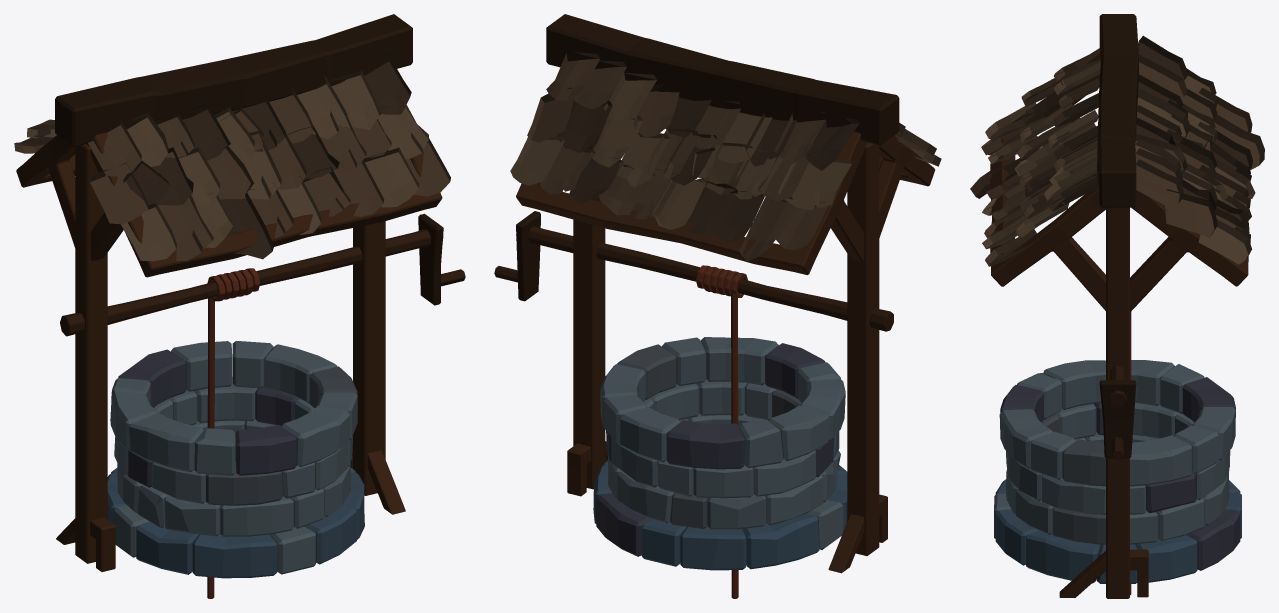
Rendered from well.obj.
The picture shows the model from 3 angles, left to right: view 1: azimuth 30°, elevation 25°; view 2: azimuth 150°, elevation 25°; view 3: azimuth 270°, elevation 25°; orthographic projection. The views are drawn at different scales.
Visible parts, largest first — view 1: Cube.004, Plane.024, Cube.003, Cube, Cube.002, Cube.001, Cylinder; view 2: Cube.004, Plane.024, Cube.003, Cube, Cube.002, Cube.001, Cylinder; view 3: Plane.024, Cube.004, Cube.003, Cube, Cube.002, Cube.001.
Boxes of the visible parts, x1,y1,x2,y2 form: Cube.004: (16,14,465,571); Plane.024: (14,54,450,261); Cube.003: (110,341,357,475); Cube: (107,453,364,578); Cube.002: (114,377,352,505); Cube.001: (117,419,350,536); Cylinder: (207,268,260,598); Cube.004: (494,14,935,573); Plane.024: (510,52,941,261); Cube.003: (600,337,845,469); Cube: (593,461,847,570); Cube.002: (606,378,839,498); Cube.001: (608,413,840,529); Cylinder: (696,265,747,598); Plane.024: (970,35,1264,266); Cube.004: (990,14,1248,598); Cube.003: (999,360,1235,486); Cube: (994,479,1241,583); Cube.002: (1006,403,1230,514); Cube.001: (1006,432,1229,544).
Size of the model in its own units: 23.83 by 30.57 by 16.
